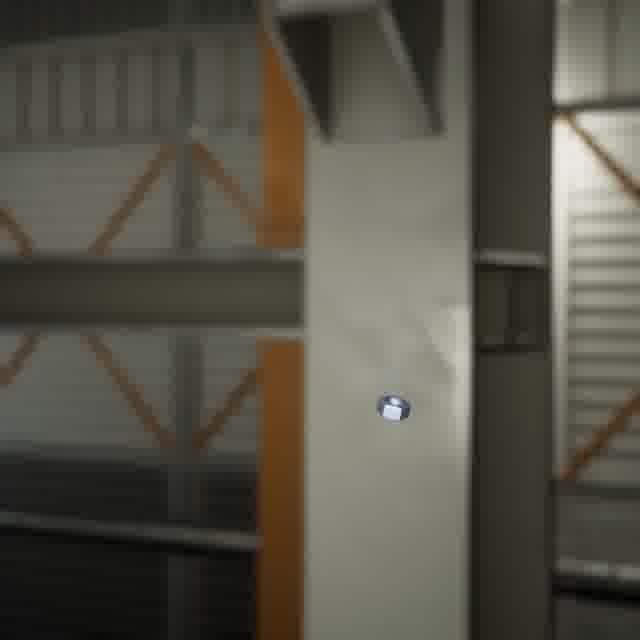nut: (372, 390, 415, 424)
